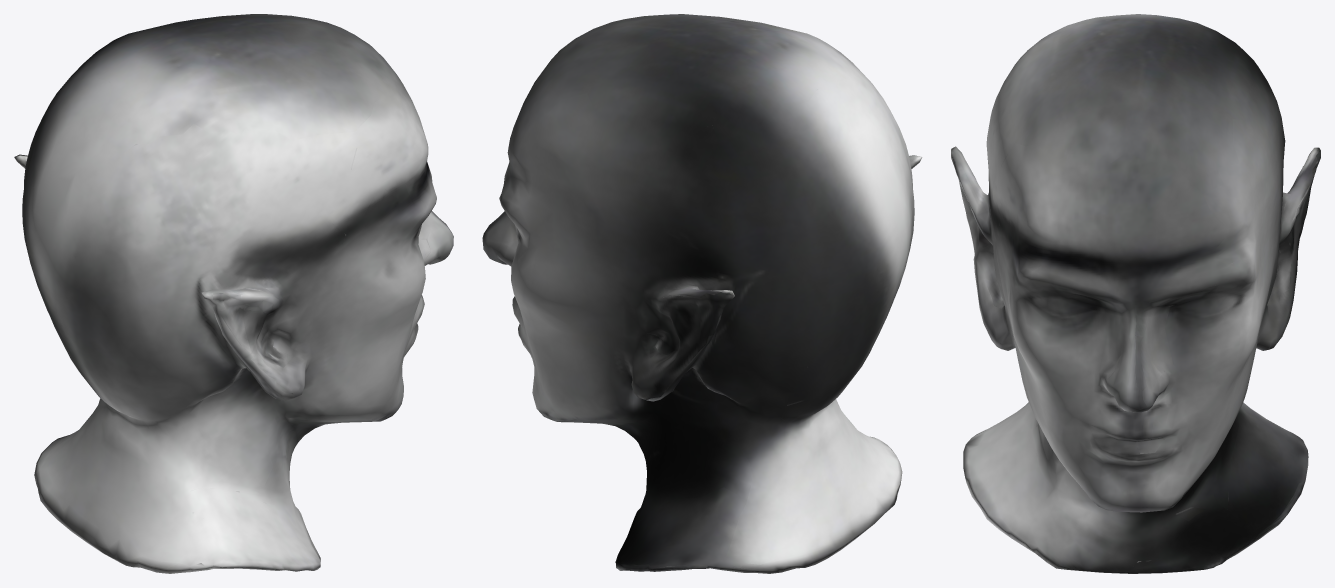
The model's file is Spock.obj.
The picture shows the model from 3 angles, left to right: view 1: azimuth 30°, elevation 25°; view 2: azimuth 150°, elevation 25°; view 3: azimuth 270°, elevation 25°; orthographic projection. The views are drawn at different scales.
Visible parts, largest first — view 1: Mesh_0; view 2: Mesh_0; view 3: Mesh_0.
Boxes of the visible parts, bbox=[...] form: Mesh_0: bbox=[14, 14, 453, 573]; Mesh_0: bbox=[482, 14, 922, 573]; Mesh_0: bbox=[951, 14, 1320, 573].
Bounding box in the file's own units: 0.7908 × 0.9463 × 0.6315.
